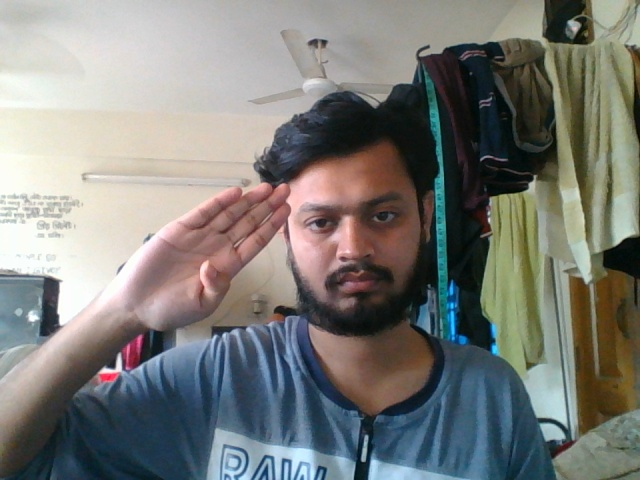salam: (94, 173, 314, 338)
